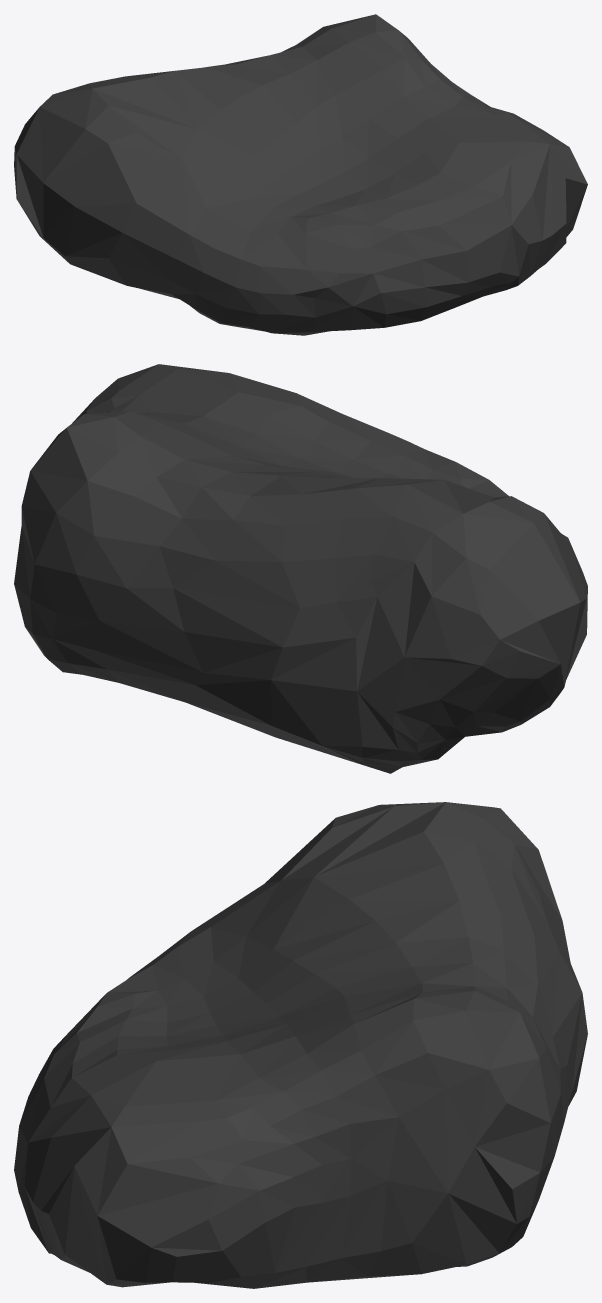
File: C_2_3_bone_C_2_3_bone.glb
3 views of the same model, one above another, from view 1: azimuth 30°, elevation 25°; view 2: azimuth 150°, elevation 25°; view 3: azimuth 270°, elevation 25° (orthographic). The views are drawn at different scales.
Visible parts, largest first — view 1: C_2_3_bone_C_2_3_bone; view 2: C_2_3_bone_C_2_3_bone; view 3: C_2_3_bone_C_2_3_bone.
Part boxes in pixels (bbox=[...]): C_2_3_bone_C_2_3_bone: bbox=[14, 14, 587, 335]; C_2_3_bone_C_2_3_bone: bbox=[14, 364, 587, 773]; C_2_3_bone_C_2_3_bone: bbox=[14, 802, 587, 1288].
Size of the model in its own units: 0.0887 by 0.0377 by 0.0658.
Materials: 1 (1 with a texture image).
